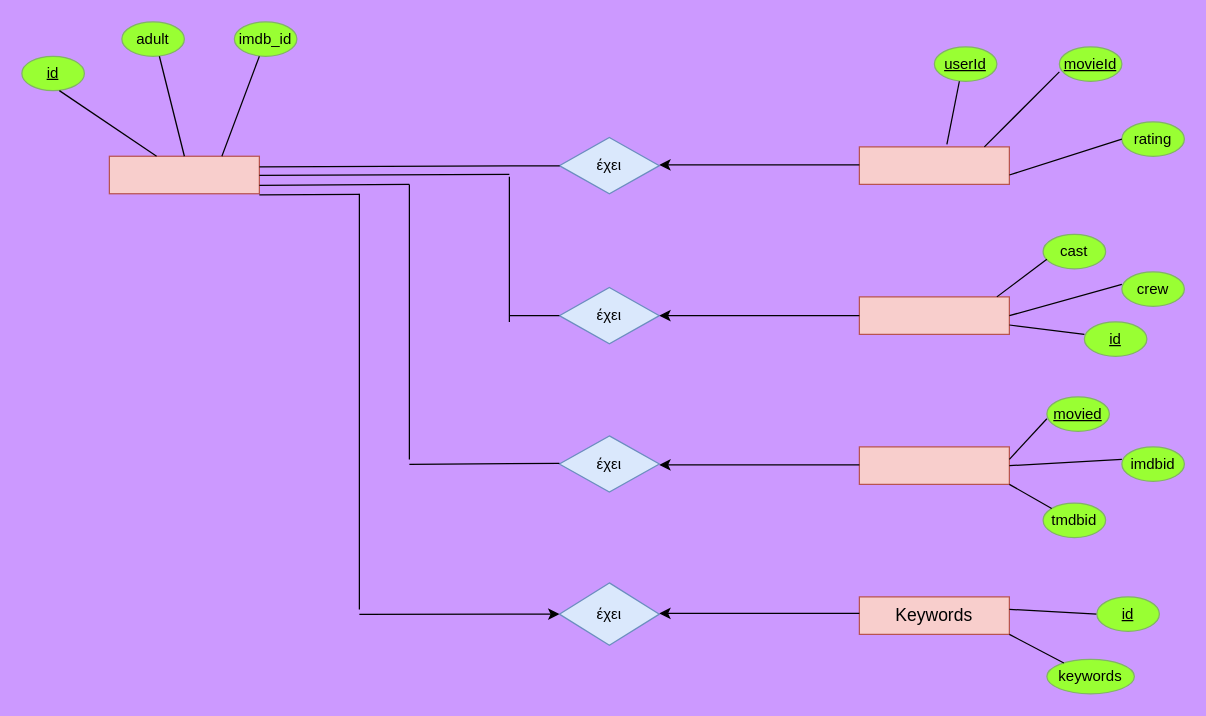
The diagram is 1206 pixels wide and 716 high, and some of its shapes have lost their labels. Here are the shapes that lost their labels. From the top down, the centre of each, then its label:
At [183,174]: "Movies_Metada".
At [933,165]: "Ratings_small".
At [933,315]: "Credits".
At [933,465]: "Links".
